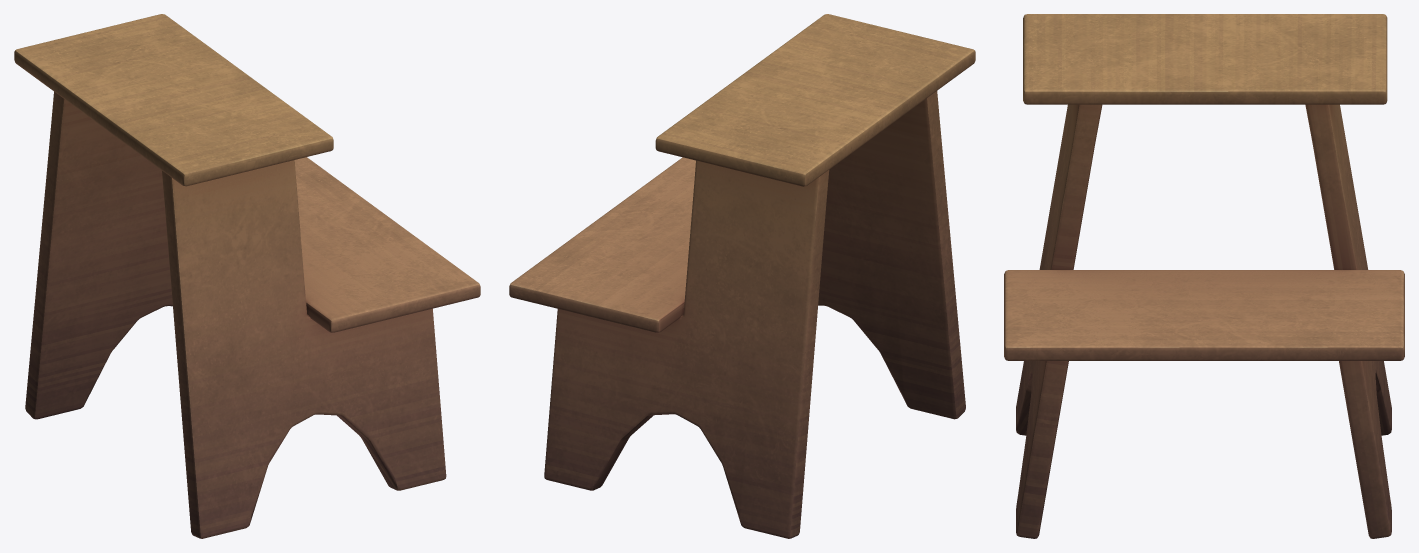
The model's file is stool.fbx.
3 views of the same model, side by side, from view 1: azimuth 30°, elevation 25°; view 2: azimuth 150°, elevation 25°; view 3: azimuth 270°, elevation 25° (orthographic). The views are drawn at different scales.
Visible parts, largest first — view 1: pPlane3; view 2: pPlane3; view 3: pPlane3.
Boxes of the visible parts, x1,y1,x2,y2 form: pPlane3: (14, 14, 480, 538); pPlane3: (509, 14, 975, 538); pPlane3: (1004, 14, 1404, 538).
Size of the model in its own units: 29.13 by 35.55 by 32.85.
